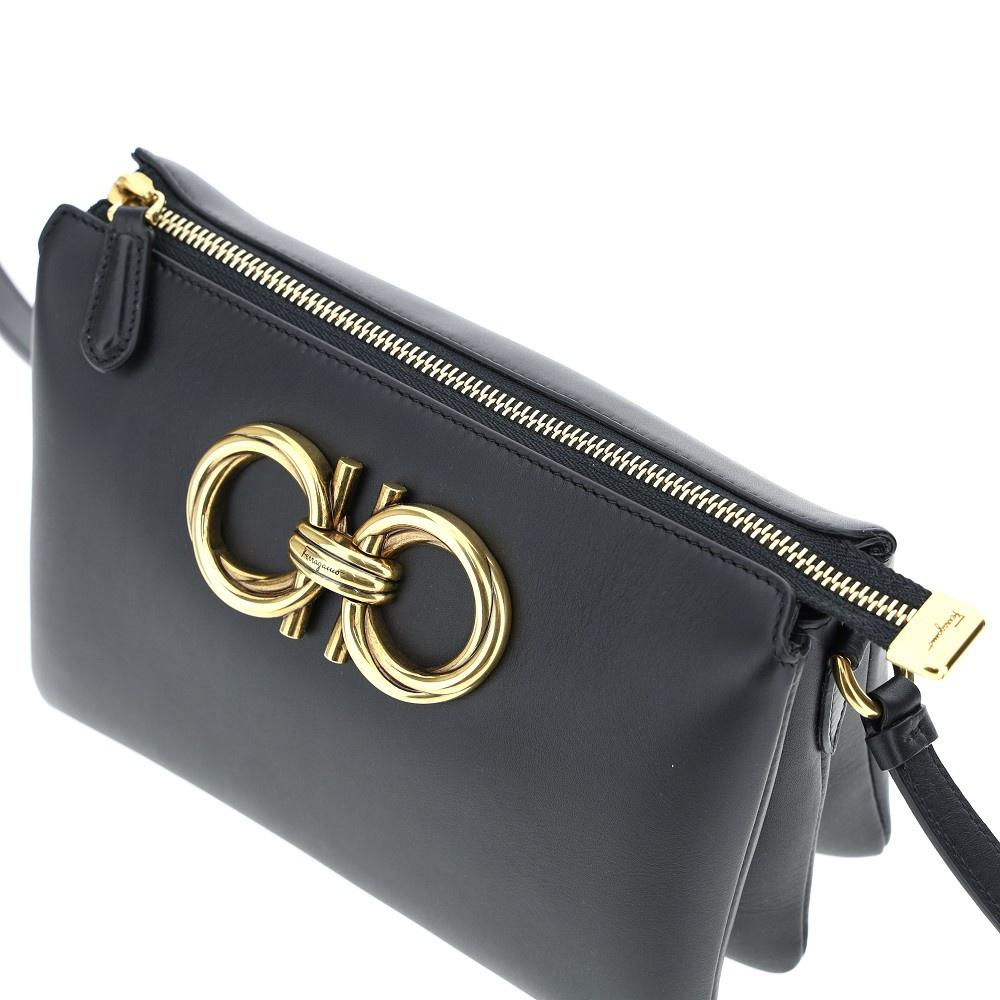FERRAGAMO: (151, 401, 551, 779)
